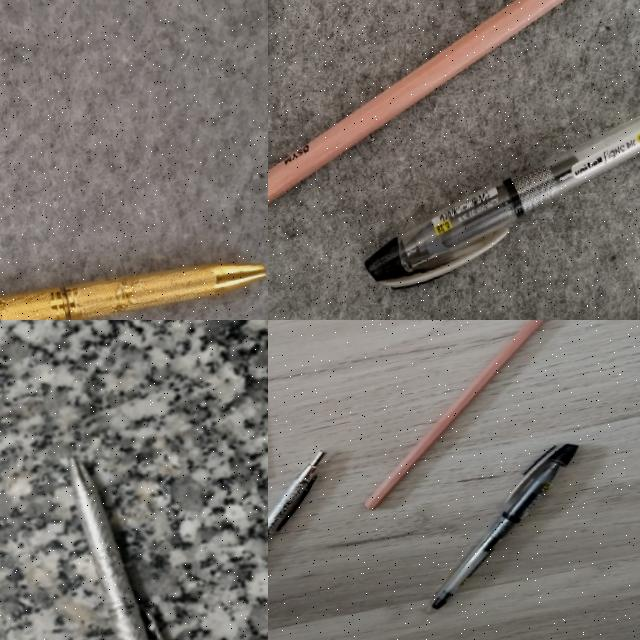pen: (358, 85, 640, 283), (398, 442, 602, 614)
pencil: (268, 0, 563, 203), (329, 320, 603, 510), (268, 264, 640, 320)
signature pen: (0, 263, 265, 319), (69, 457, 149, 639), (268, 451, 347, 621)
